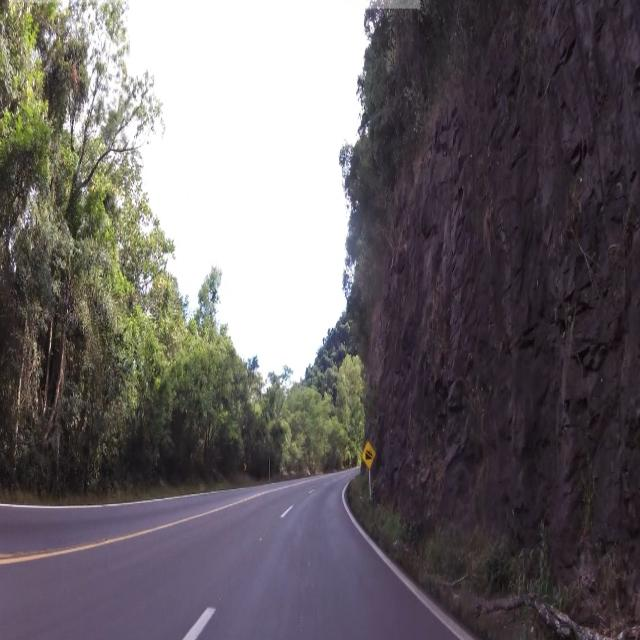A-20a: (358, 434, 382, 474)
